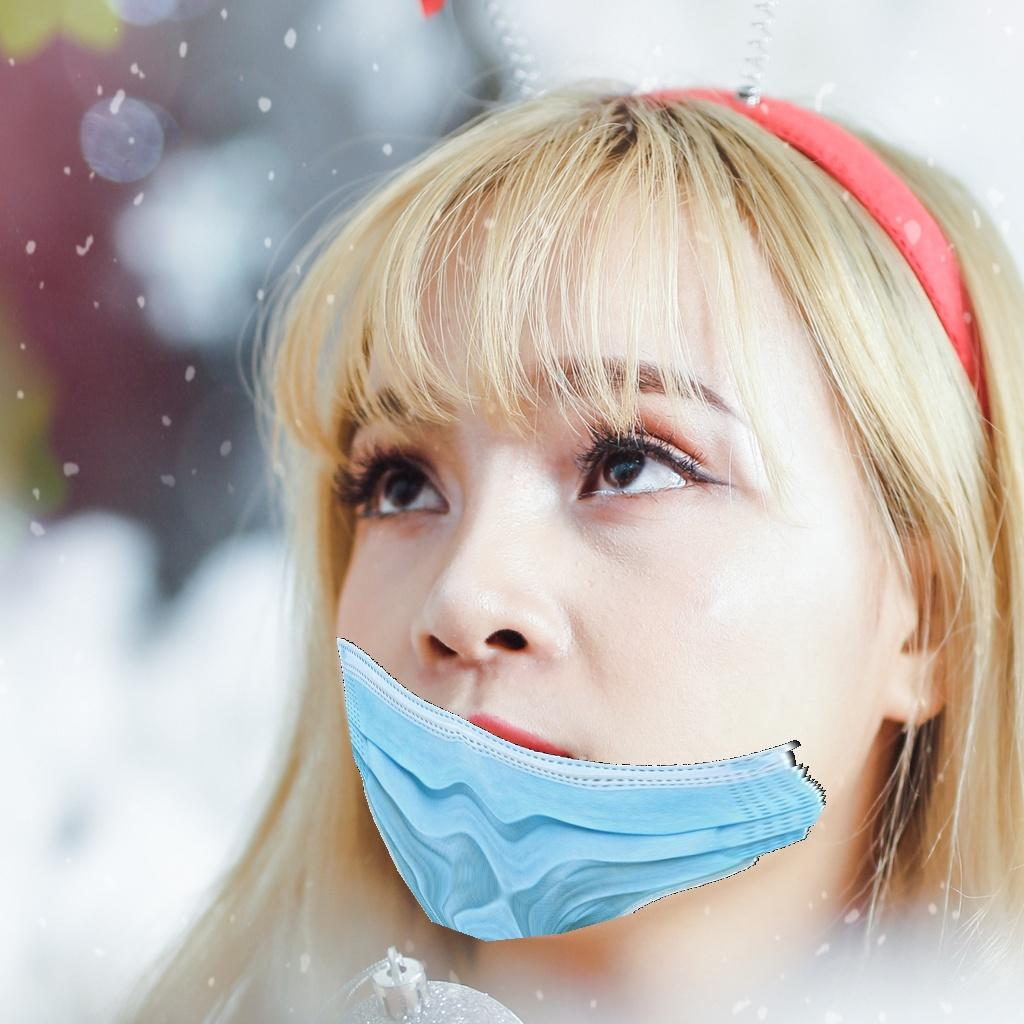Máscara Incorreta: (309, 341, 885, 911)
